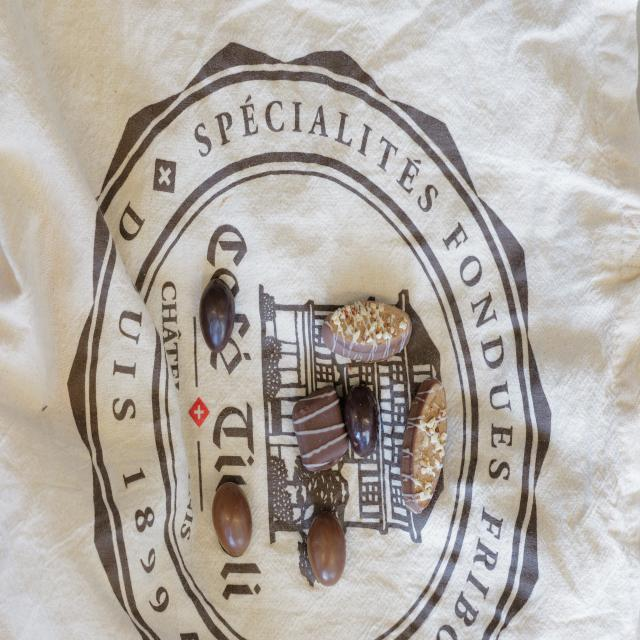Amandina: (401, 379, 448, 516), (322, 302, 413, 363)
Jelly_Black: (200, 278, 235, 354), (343, 386, 378, 458)
Jelly_Milk: (212, 482, 253, 557), (308, 511, 345, 586)
Stracciatella: (293, 385, 348, 474)
